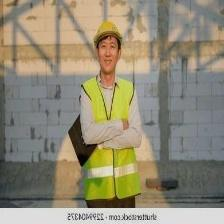Person: (68, 17, 143, 208)
helmet: (94, 19, 125, 45)
vest: (84, 73, 139, 196)
